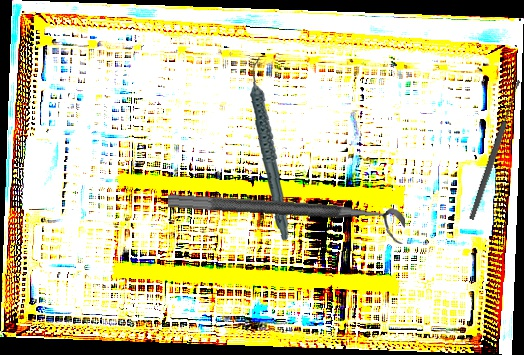Fixation Ring: (166, 192, 406, 245)
Handpiece: (242, 56, 300, 242)
Surgical Spoon: (467, 79, 524, 221)
